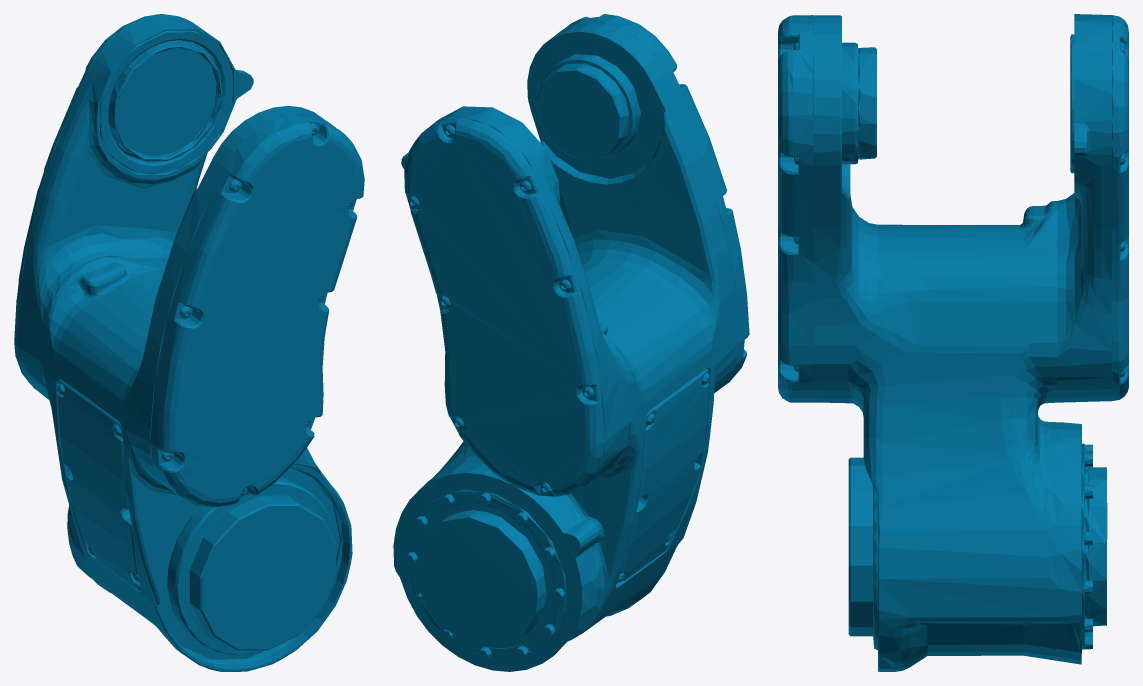
3 views of the same model, side by side, from view 1: azimuth 30°, elevation 25°; view 2: azimuth 150°, elevation 25°; view 3: azimuth 270°, elevation 25° (orthographic). The views are drawn at different scales.
Visible parts, largest first — view 1: link_2; view 2: link_2; view 3: link_2.
Part boxes in pixels (bbox=[...]): link_2: bbox=[14, 14, 364, 671]; link_2: bbox=[393, 14, 749, 671]; link_2: bbox=[778, 14, 1128, 671].
Size of the model in its own units: 0.1595 by 0.1865 by 0.3739.
